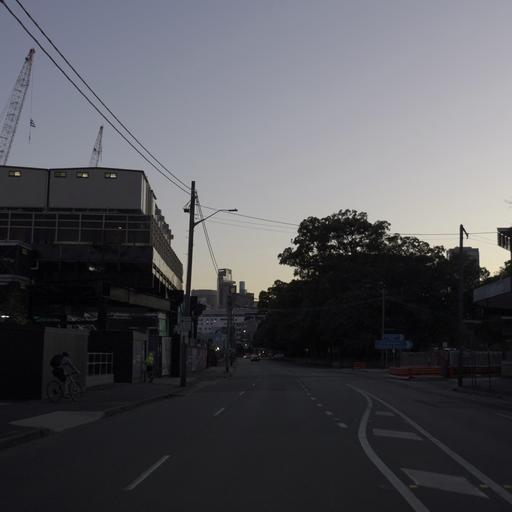Street light: (178, 199, 238, 386), (456, 222, 511, 386)
